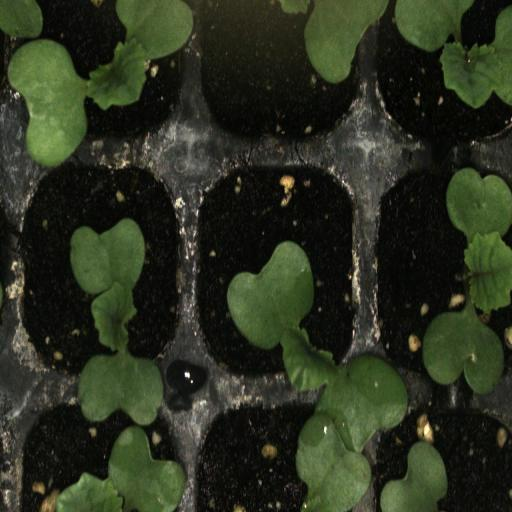seedling: (186, 156, 373, 395), (7, 157, 190, 394), (370, 152, 512, 397), (6, 0, 188, 156), (369, 0, 512, 154)
